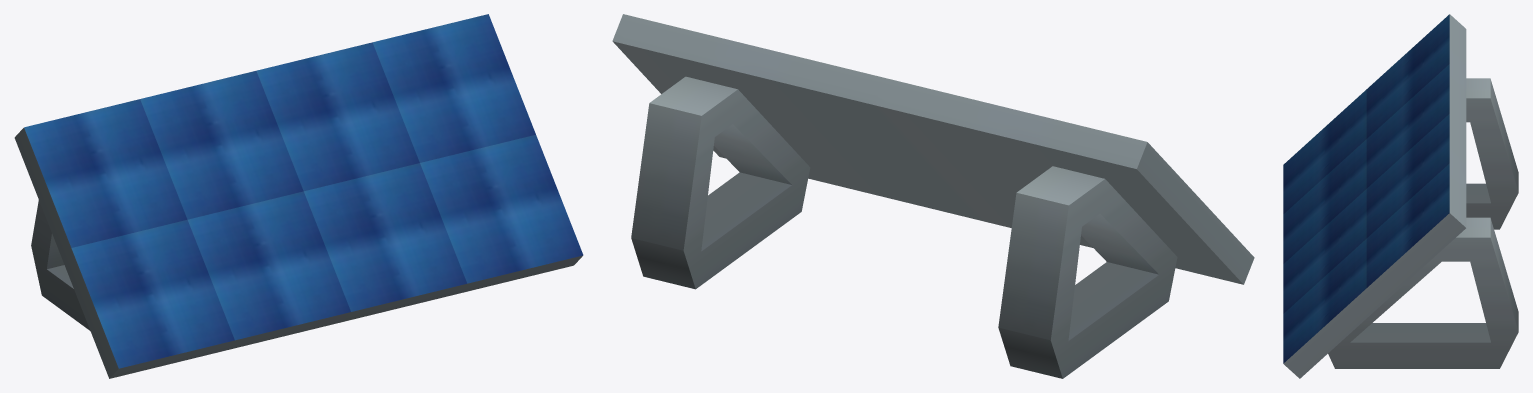
File: solarpanel.glb
The picture shows the model from 3 angles, left to right: view 1: azimuth 30°, elevation 25°; view 2: azimuth 150°, elevation 25°; view 3: azimuth 270°, elevation 25°; orthographic projection. The views are drawn at different scales.
Parts seen in each view (by area): view 1: solarpanel; view 2: solarpanel; view 3: solarpanel.
Boxes of the visible parts, x1,y1,x2,y2 form: solarpanel: [14, 14, 583, 378]; solarpanel: [612, 14, 1254, 378]; solarpanel: [1283, 14, 1518, 378].
Bounding box in the file's own units: 0.9 × 0.3709 × 0.4501.
1 material, 1 textured.
